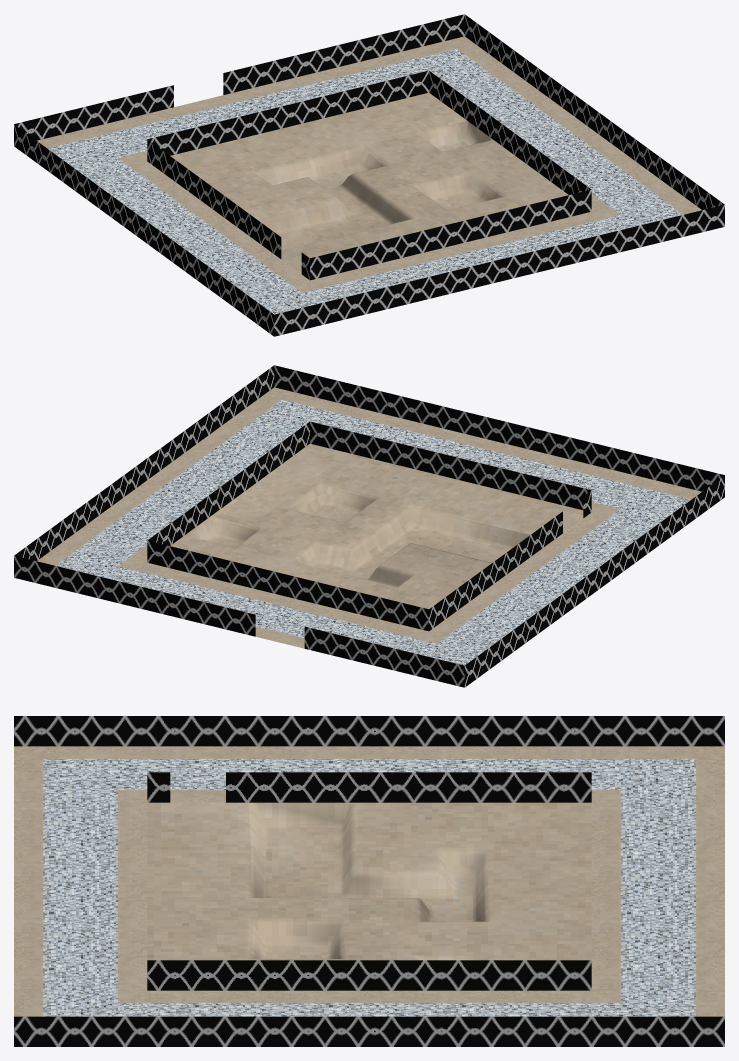
Rendered from SM_Level_Visual.dae.
The picture shows the model from 3 angles, top to bottom: view 1: azimuth 30°, elevation 25°; view 2: azimuth 150°, elevation 25°; view 3: azimuth 270°, elevation 25°; orthographic projection. The views are drawn at different scales.
Parts seen in each view (by area): view 1: InnerGroundRoad, InnerGroundYard, OuterFences, InnerFences; view 2: InnerGroundRoad, InnerGroundYard, OuterFences, InnerFences; view 3: InnerGroundRoad, InnerGroundYard, OuterFences, InnerFences.
Boxes of the visible parts, x1,y1,x2,y2 form: InnerGroundRoad: [37, 36, 701, 314]; InnerGroundYard: [170, 92, 568, 273]; OuterFences: [14, 14, 724, 336]; InnerFences: [147, 70, 591, 280]; InnerGroundRoad: [37, 387, 701, 665]; InnerGroundYard: [170, 443, 583, 609]; OuterFences: [14, 365, 724, 687]; InnerFences: [147, 421, 591, 631]; InnerGroundRoad: [14, 746, 724, 1016]; InnerGroundYard: [147, 802, 591, 960]; OuterFences: [14, 716, 724, 1046]; InnerFences: [147, 772, 591, 990].
Size of what is drawn, in the model's own units: 64 by 64 by 5.
